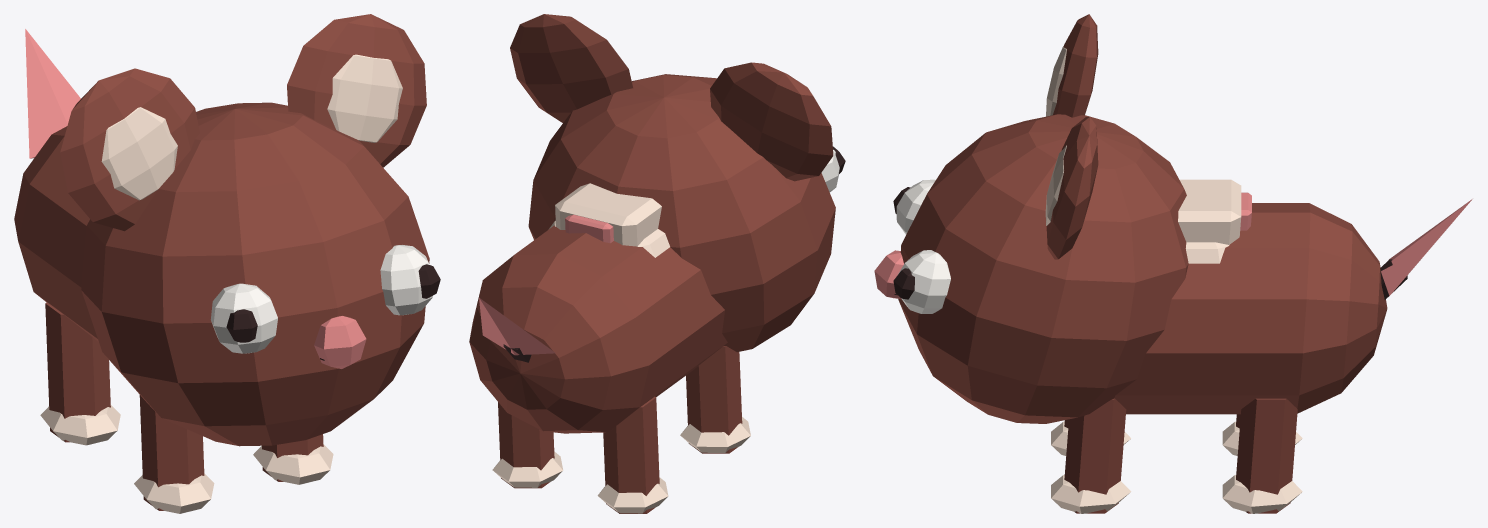
Rendered from bean-volcanic-1.glb.
3 renders of one model, left to right at view 1: azimuth 30°, elevation 25°; view 2: azimuth 150°, elevation 25°; view 3: azimuth 270°, elevation 25°, orthographic. The views are drawn at different scales.
Parts seen in each view (by area): view 1: bean-volcanic-1; view 2: bean-volcanic-1; view 3: bean-volcanic-1.
Boxes of the visible parts, x1,y1,x2,y2 form: bean-volcanic-1: (14, 14, 440, 513); bean-volcanic-1: (469, 14, 845, 513); bean-volcanic-1: (874, 14, 1472, 513).
Bounding box in the file's own units: 0.6047 × 0.7 × 0.9399.
